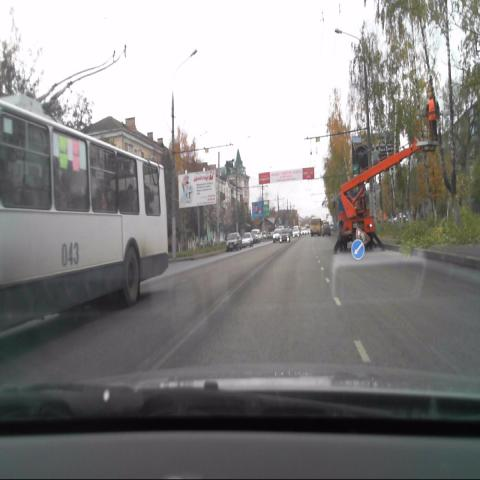4_2_2: (350, 237, 364, 261)
